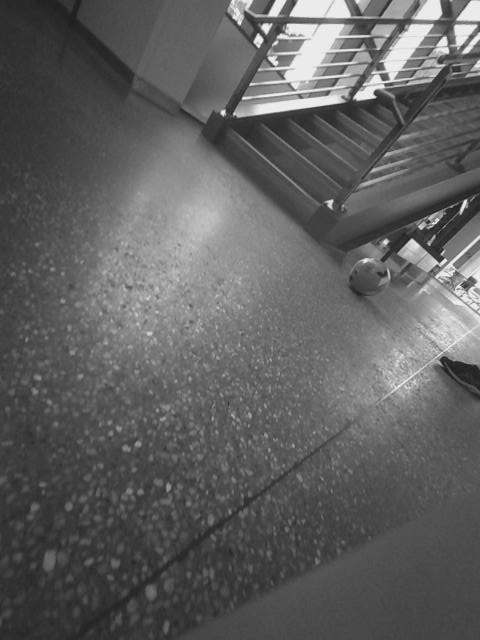ball: (346, 253, 394, 301)
